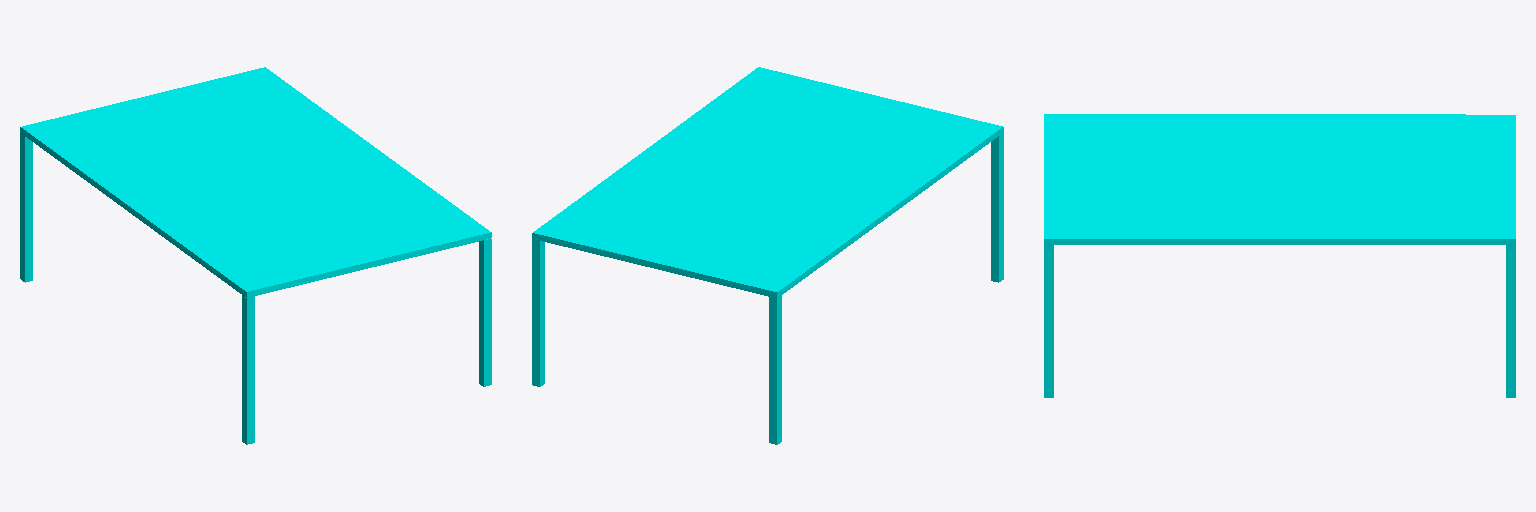
URDF robot description (hand_iiwa):
<?xml version="1.0" ?>
<!-- =================================================================================== -->
<!-- |    This document was autogenerated by xacro from handlit_iiwa7.urdf.xacro       | -->
<!-- |    EDITING THIS FILE BY HAND IS NOT RECOMMENDED                                 | -->
<!-- =================================================================================== -->
<robot name="hand_iiwa" xmlns:body="http://playerstage.sourceforge.net/gazebo/xmlschema/#body" xmlns:controller="http://playerstage.sourceforge.net/gazebo/xmlschema/#controller" xmlns:geom="http://playerstage.sourceforge.net/gazebo/xmlschema/#geom" xmlns:interface="http://playerstage.sourceforge.net/gazebo/xmlschema/#interface" xmlns:joint="http://playerstage.sourceforge.net/gazebo/xmlschema/#slider" xmlns:sensor="http://playerstage.sourceforge.net/gazebo/xmlschema/#sensor" xmlns:xacro="http://www.ros.org/wiki/xacro">
  <link name="world"/>
  <!--
  <material name="Blue">
    <color rgba="0.0 0.0 0.8 1.0" />
  </material>

  <material name="Green">
    <color rgba="0.0 0.8 0.0 1.0" />
  </material>
-->
  <material name="BiotacGreen">
    <color rgba="0.31 0.85 0.42 1.0"/>
  </material>
  <!--
  <material name="Grey">
    <color rgba="0.2 0.2 0.2 1.0" />
  </material>
-->
  <material name="LightGrey">
    <color rgba="0.6 0.6 0.6 1.0"/>
  </material>
  <!--
  <material name="Red">
    <color rgba="0.8 0.0 0.0 1.0" />
  </material>
  <material name="White">
    <color rgba="1.0 1.0 1.0 1.0" />
  </material>
-->
  <gazebo>
    <plugin filename="libgazebo_ros_control.so" name="gazebo_ros_control">
      <robotSimType>sr_gazebo_sim/SrGazeboHWSim</robotSimType>
    </plugin>
  </gazebo>
  <!-- mass 1 kg -->
  <!-- Base Link -->
  <!-- length 200 cm -->

  <joint name="world_table_joint" type="fixed">
    <parent link="world"/>
    <child link="tableTop"/>
    <origin rpy="0.0 0.0 0.0" xyz=" 0.0 0.0 0"/>
  </joint>

  <!-- ****************************Table******************* -->
  
  <link name="topLeft_Leg">
    <inertial>
      <origin rpy="0 0 0" xyz="0 0 0.3575"/>
      <mass value="1"/>
      <inertia ixx="100" ixy="0" ixz="0" iyy="100" iyz="0" izz="100"/>
    </inertial>
    <visual>
      <origin rpy="0 0 0" xyz="0 0 0.3575"/>
      <geometry>
        <box size="0.04 0.04 0.715"/>
      </geometry>
      <material name="Cyan">
        <color rgba="0 1.0 1.0 1.0"/>
      </material>
    </visual>
    <collision>
      <origin rpy="0 0 0" xyz="0 0 0.3575"/>
      <geometry>
        <box size="0.04 0.04 0.715"/>
      </geometry>
    </collision>
  </link>
  <link name="topRight_Leg">
    <inertial>
      <origin rpy="0 0 0" xyz="0 0 0.3575"/>
      <mass value="1"/>
      <inertia ixx="100" ixy="0" ixz="0" iyy="100" iyz="0" izz="100"/>
    </inertial>
    <visual>
      <origin rpy="0 0 0" xyz="0 0 0.3575"/>
      <geometry>
        <box size="0.04 0.04 0.715"/>
      </geometry>
      <material name="Cyan">
        <color rgba="0 1.0 1.0 1.0"/>
      </material>
    </visual>
    <collision>
      <origin rpy="0 0 0" xyz="0 0 0.3575"/>
      <geometry>
        <box size="0.04 0.04 0.715"/>
      </geometry>
    </collision>
  </link>
  <link name="buttomLeft_Leg">
    <inertial>
      <origin rpy="0 0 0" xyz="0 0 0.3575"/>
      <mass value="1"/>
      <inertia ixx="100" ixy="0" ixz="0" iyy="100" iyz="0" izz="100"/>
    </inertial>
    <visual>
      <origin rpy="0 0 0" xyz="0 0 0.3575"/>
      <geometry>
        <box size="0.04 0.04 0.715"/>
      </geometry>
      <material name="Cyan">
        <color rgba="0 1.0 1.0 1.0"/>
      </material>
    </visual>
    <collision>
      <origin rpy="0 0 0" xyz="0 0 0.3575"/>
      <geometry>
        <box size="0.04 0.04 0.715"/>
      </geometry>
    </collision>
  </link>
  <link name="buttomRight_Leg">
    <inertial>
      <origin rpy="0 0 0" xyz="0 0 0.3575"/>
      <mass value="1"/>
      <inertia ixx="100" ixy="0" ixz="0" iyy="100" iyz="0" izz="100"/>
    </inertial>
    <visual>
      <origin rpy="0 0 0" xyz="0 0 0.3575"/>
      <geometry>
        <box size="0.04 0.04 0.715"/>
      </geometry>
      <material name="Cyan">
        <color rgba="0 1.0 1.0 1.0"/>
      </material>
    </visual>
    <collision>
      <origin rpy="0 0 0" xyz="0 0 0.3575"/>
      <geometry>
        <box size="0.04 0.04 0.715"/>
      </geometry>
    </collision>
  </link>
  <link name="tableTop">
    <inertial>
      <origin rpy="1.57 0 0" xyz="0 0 0.73"/>
      <mass value="1"/>
      <inertia ixx="100" ixy="0" ixz="0" iyy="100" iyz="0" izz="100"/>
    </inertial>
    <visual>
      <origin rpy="1.57 0 0" xyz="0 0 0.73"/>
      <geometry>
        <box size="1.25 0.03 2.0"/>
      </geometry>
      <material name="Cyan">
        <color rgba="0 1.0 1.0 1.0"/>
      </material>
    </visual>
    <collision>
      <origin rpy="1.57 0 0" xyz="0 0 0.73"/>
      <geometry>
        <box size="1.25 0.03 2.0"/>
      </geometry>
    </collision>
  </link>
  <joint name="topLeft_Tabletop" type="fixed">
    <parent link="tableTop"/>
    <child link="topLeft_Leg"/>
    <origin rpy="0.0 0.0 0.0" xyz=" -0.605 -0.98 0.0"/>
  </joint>
  <joint name="topRight_Tabletop" type="fixed">
    <parent link="tableTop"/>
    <child link="topRight_Leg"/>
    <origin rpy="0.0 0.0 0.0" xyz=" 0.605 -0.98 0.0"/>
  </joint>
  <joint name="buttomLeft_Tabletop" type="fixed">
    <parent link="tableTop"/>
    <child link="buttomLeft_Leg"/>
    <origin rpy="0.0 0.0 0.0" xyz=" -0.605 0.98 0.0"/>
  </joint>
  <joint name="buttomRight_Tabletop" type="fixed">
    <parent link="tableTop"/>
    <child link="buttomRight_Leg"/>
    <origin rpy="0.0 0.0 0.0" xyz=" 0.605 0.98 0.0"/>
  </joint>

  
</robot>

--- Facts derived from the render (not from the file) ---
The picture shows the robot from 3 angles, left to right: view 1: azimuth 30°, elevation 25°; view 2: azimuth 150°, elevation 25°; view 3: azimuth 270°, elevation 25°; orthographic projection.
Model hand_iiwa with 6 links and 5 joints (5 fixed), rooted at world, posed every joint at zero.
Links seen in each view (by area): view 1: tableTop, topLeft_Leg, topRight_Leg, buttomLeft_Leg; view 2: tableTop, buttomLeft_Leg, buttomRight_Leg, topLeft_Leg; view 3: tableTop, topRight_Leg, buttomRight_Leg.
Boxes of the visible links, left/top/right/bottom form: tableTop: left=20, top=67, right=491, bottom=297; topLeft_Leg: left=242, top=295, right=254, bottom=444; topRight_Leg: left=479, top=239, right=491, bottom=386; buttomLeft_Leg: left=20, top=133, right=32, bottom=282; tableTop: left=532, top=67, right=1003, bottom=297; buttomLeft_Leg: left=769, top=295, right=781, bottom=444; buttomRight_Leg: left=532, top=239, right=544, bottom=386; topLeft_Leg: left=991, top=133, right=1003, bottom=282; tableTop: left=1044, top=114, right=1515, bottom=244; topRight_Leg: left=1044, top=245, right=1053, bottom=397; buttomRight_Leg: left=1506, top=245, right=1515, bottom=397.
Bounding box of the posed robot: 1.25 × 2 × 0.7458 m (x, y, z).
Geometry: primitives only (box / cylinder / sphere), no mesh files.